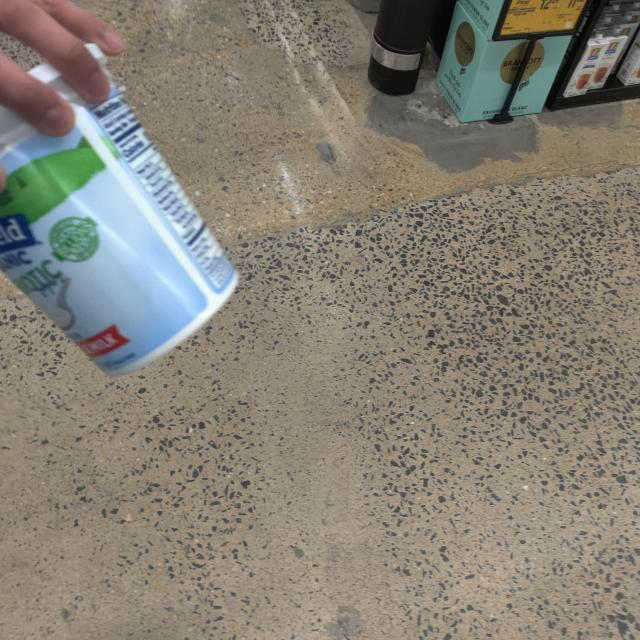Yogurt: (0, 47, 242, 373)
